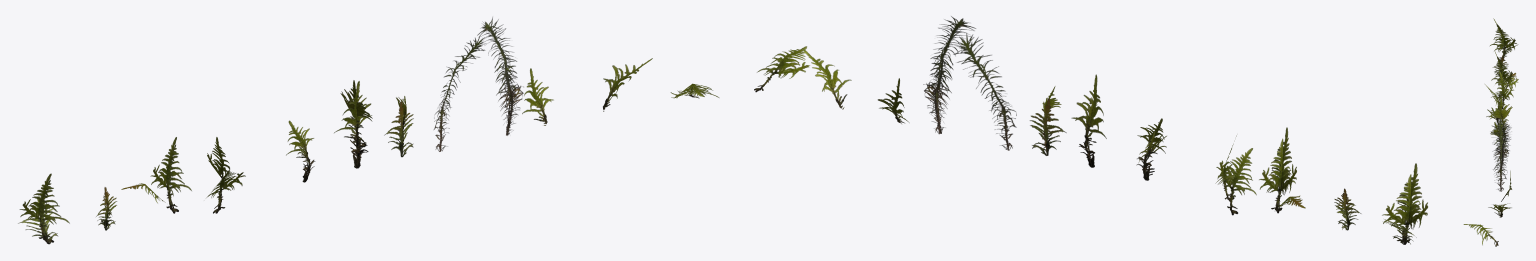
Rendered from polyhaven-moss-01.glb.
3 renders of one model, left to right at view 1: azimuth 30°, elevation 25°; view 2: azimuth 150°, elevation 25°; view 3: azimuth 270°, elevation 25°, orthographic. The views are drawn at different scales.
Parts seen in each view (by area): view 1: moss_01_tall_b_LOD0_0, moss_01_a_LOD0_0, moss_01_f_LOD0_0, moss_01_c_LOD0_0, moss_01_tall_a_LOD0_0, moss_01_d_LOD0_0, moss_01_g_LOD0_0, moss_01_e_LOD0_0, moss_01_h_LOD0_0, moss_01_i_LOD0_0, moss_01_b_LOD0_0; view 2: moss_01_tall_b_LOD0_0, moss_01_a_LOD0_0, moss_01_tall_a_LOD0_0, moss_01_c_LOD0_0, moss_01_d_LOD0_0, moss_01_f_LOD0_0, moss_01_g_LOD0_0, moss_01_j_LOD0_0, moss_01_e_LOD0_0, moss_01_i_LOD0_0, moss_01_b_LOD0_0, moss_01_h_LOD0_0; view 3: moss_01_tall_b_LOD0_0, moss_01_a_LOD0_0, moss_01_c_LOD0_0, moss_01_d_LOD0_0, moss_01_f_LOD0_0, moss_01_tall_a_LOD0_0, moss_01_j_LOD0_0, moss_01_g_LOD0_0, moss_01_i_LOD0_0, moss_01_e_LOD0_0, moss_01_b_LOD0_0, moss_01_h_LOD0_0.
Part boxes in pixels (<box>): moss_01_tall_b_LOD0_0: <box>477,17,523,135</box>; moss_01_a_LOD0_0: <box>18,173,69,244</box>; moss_01_f_LOD0_0: <box>334,80,372,168</box>; moss_01_c_LOD0_0: <box>121,137,191,213</box>; moss_01_tall_a_LOD0_0: <box>433,36,486,151</box>; moss_01_d_LOD0_0: <box>206,137,245,213</box>; moss_01_g_LOD0_0: <box>384,96,413,157</box>; moss_01_e_LOD0_0: <box>286,120,315,182</box>; moss_01_h_LOD0_0: <box>522,68,553,125</box>; moss_01_i_LOD0_0: <box>603,58,652,111</box>; moss_01_b_LOD0_0: <box>96,187,116,230</box>; moss_01_tall_b_LOD0_0: <box>923,16,975,134</box>; moss_01_a_LOD0_0: <box>1382,163,1427,244</box>; moss_01_tall_a_LOD0_0: <box>953,33,1016,150</box>; moss_01_c_LOD0_0: <box>1259,127,1305,213</box>; moss_01_d_LOD0_0: <box>1215,135,1256,215</box>; moss_01_f_LOD0_0: <box>1071,74,1106,167</box>; moss_01_g_LOD0_0: <box>1029,86,1066,155</box>; moss_01_j_LOD0_0: <box>754,46,809,92</box>; moss_01_e_LOD0_0: <box>1136,118,1166,180</box>; moss_01_i_LOD0_0: <box>802,48,851,109</box>; moss_01_b_LOD0_0: <box>1334,188,1361,230</box>; moss_01_h_LOD0_0: <box>877,78,909,123</box>; moss_01_tall_b_LOD0_0: <box>1491,118,1510,191</box>; moss_01_a_LOD0_0: <box>1490,18,1518,60</box>; moss_01_c_LOD0_0: <box>1491,51,1518,96</box>; moss_01_d_LOD0_0: <box>1485,70,1513,109</box>; moss_01_f_LOD0_0: <box>1489,97,1512,139</box>; moss_01_tall_a_LOD0_0: <box>1494,125,1511,168</box>; moss_01_j_LOD0_0: <box>1463,224,1498,246</box>; moss_01_g_LOD0_0: <box>1490,122,1506,159</box>; moss_01_i_LOD0_0: <box>1488,203,1511,217</box>; moss_01_e_LOD0_0: <box>1486,93,1508,129</box>; moss_01_b_LOD0_0: <box>1492,55,1508,77</box>; moss_01_h_LOD0_0: <box>1501,171,1511,201</box>.
Size of the model in its own units: 0.2153 by 0.0404 by 0.0294.
Materials: 1 (1 with a texture image).
